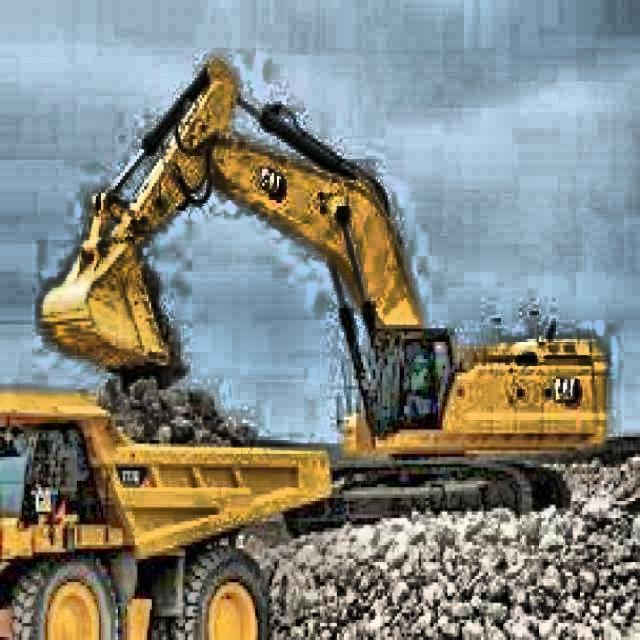bull_dozer/loader/grader: (35, 52, 610, 537), (0, 373, 338, 640)
person: (411, 354, 429, 390)
